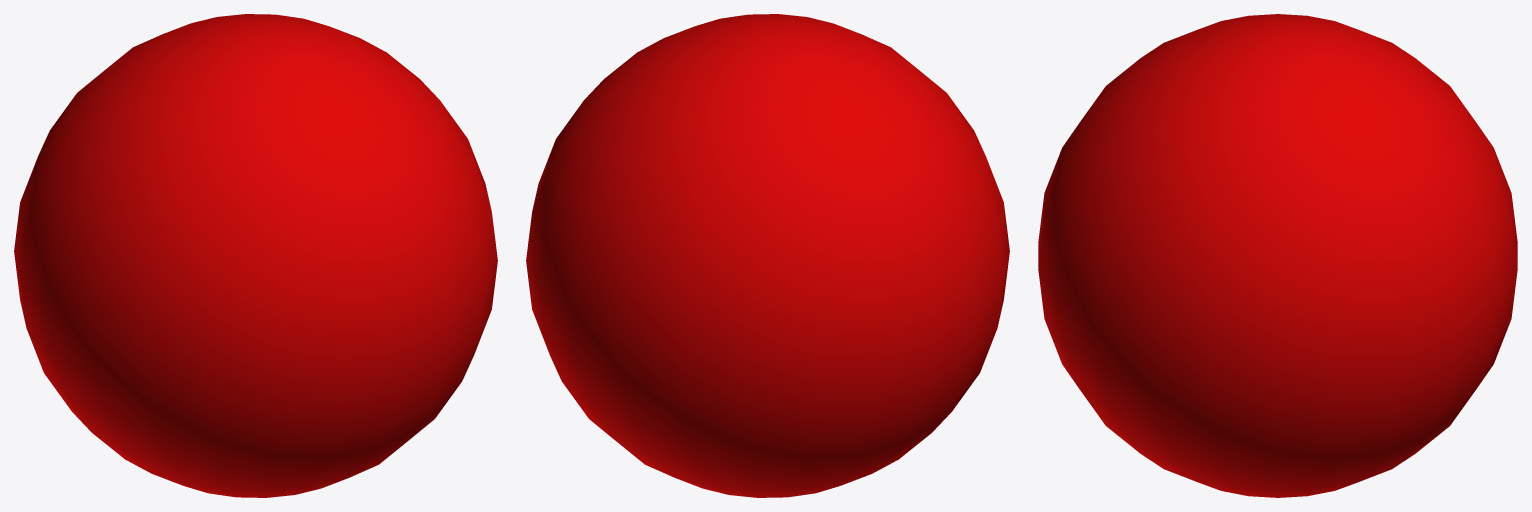
File: SnookerBall_Red.fbx
The picture shows the model from 3 angles, left to right: view 1: azimuth 30°, elevation 25°; view 2: azimuth 150°, elevation 25°; view 3: azimuth 270°, elevation 25°; orthographic projection.
Parts seen in each view (by area): view 1: SnoookerBall_Red; view 2: SnoookerBall_Red; view 3: SnoookerBall_Red.
Part boxes in pixels (x1,y1,x2,y2): SnoookerBall_Red: [14, 14, 497, 497]; SnoookerBall_Red: [526, 14, 1009, 497]; SnoookerBall_Red: [1038, 14, 1517, 497].
Size of the model in its own units: 0.052 by 0.052 by 0.0515.
Materials: 1 (1 with a texture image).
